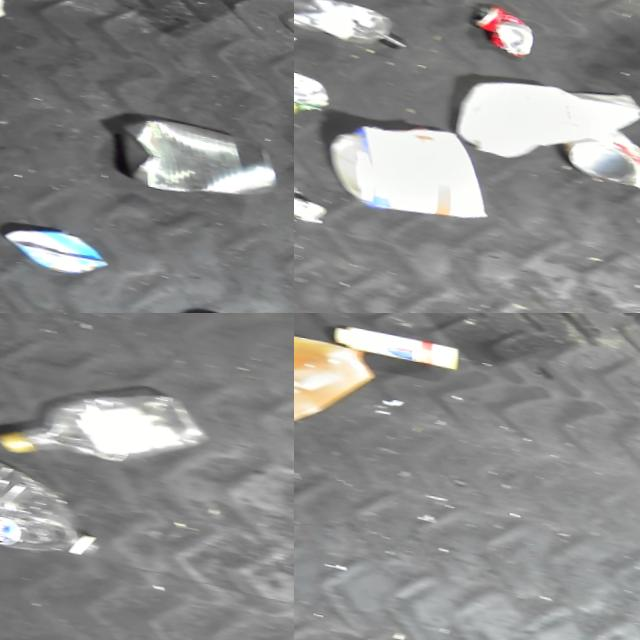can: (106, 98, 285, 208), (0, 210, 113, 277), (561, 126, 640, 177), (466, 0, 537, 51), (294, 53, 334, 128), (294, 164, 329, 226)
milk_jug: (449, 45, 640, 178)
non_white_jug: (294, 313, 382, 474)
plastic_bottle: (0, 352, 214, 491), (0, 428, 109, 566)
